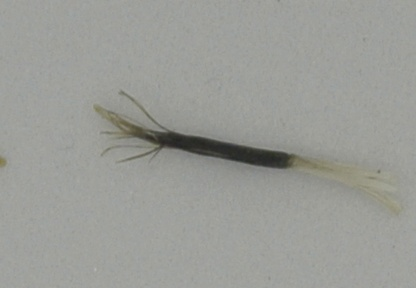เมล้ดปลายพู่กัน: (91, 88, 402, 217)
